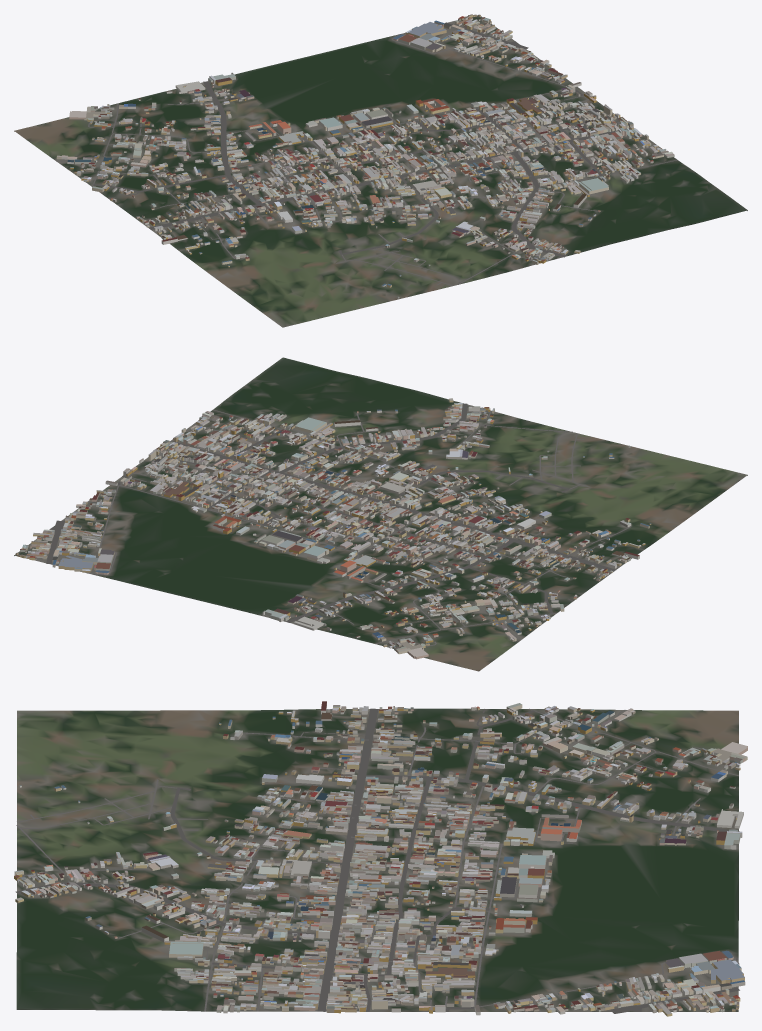
3 renders of one model, top to bottom at view 1: azimuth 30°, elevation 25°; view 2: azimuth 150°, elevation 25°; view 3: azimuth 270°, elevation 25°, orthographic. The views are drawn at different scales.
Visible parts, largest first — view 1: ground, buildings, roads; view 2: ground, buildings, roads; view 3: ground, buildings, roads.
Boxes of the visible parts, x1,y1,x2,y2 form: ground: (14, 15, 747, 327); buildings: (56, 14, 674, 298); roads: (56, 22, 677, 285); ground: (14, 357, 747, 671); buildings: (15, 398, 651, 659); roads: (46, 403, 631, 646); ground: (16, 708, 738, 1011); buildings: (14, 701, 747, 1016); roads: (15, 708, 739, 1013).
Size of the model in its own units: 1437 by 28.12 by 1424.
